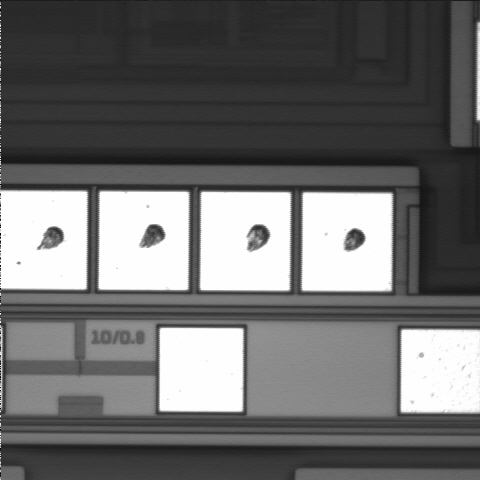pad: (99, 191, 189, 290), (200, 192, 290, 291), (302, 193, 392, 291), (160, 328, 243, 412)
